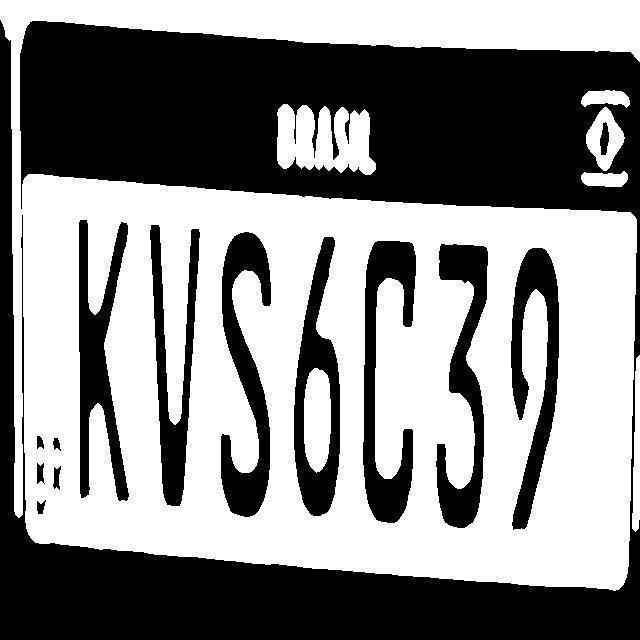3: (426, 225, 492, 541)
6: (278, 222, 348, 528)
9: (495, 224, 566, 536)
c: (354, 222, 419, 533)
k: (56, 204, 134, 512)
s: (203, 219, 275, 522)
v: (140, 210, 200, 524)
